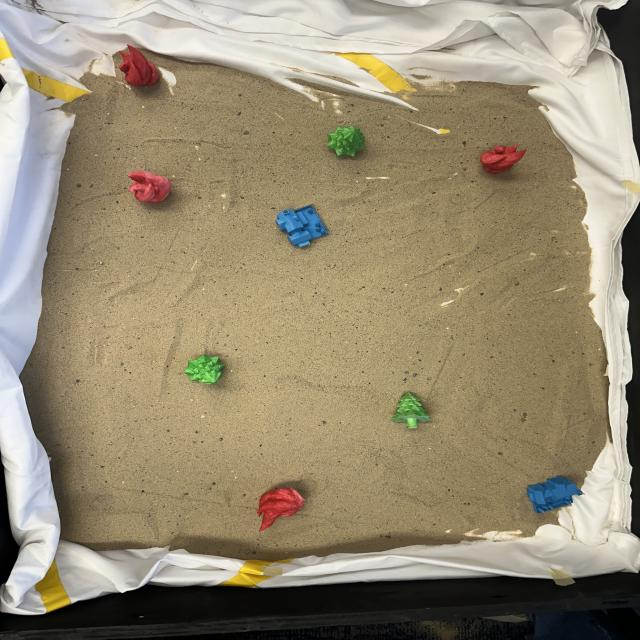fire: (254, 486, 306, 532), (114, 41, 157, 96), (126, 170, 172, 204), (479, 142, 527, 174)
house: (274, 203, 329, 248), (521, 476, 581, 514)
tree: (390, 390, 432, 430), (324, 127, 369, 163), (182, 354, 225, 385)
